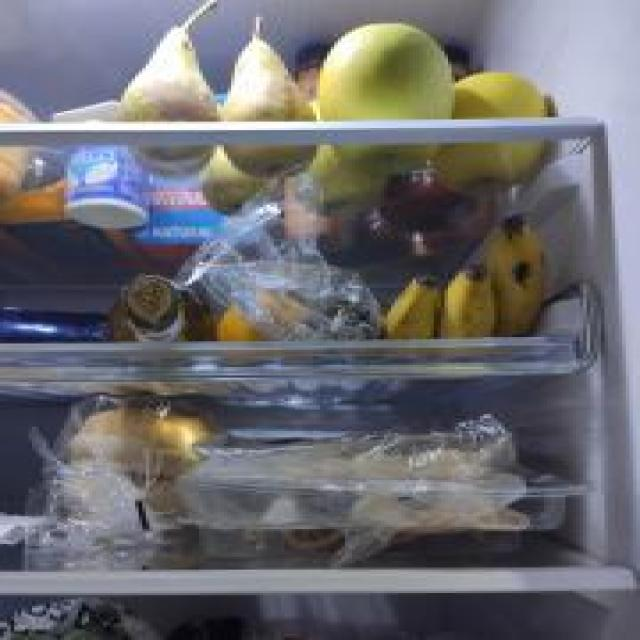apple: (317, 22, 455, 174), (427, 73, 548, 194), (292, 144, 391, 217)
banana: (482, 214, 549, 342), (439, 259, 496, 338), (384, 272, 444, 340)
lemon: (222, 290, 308, 346)
pear: (117, 2, 224, 179), (220, 17, 320, 177), (201, 143, 265, 213)
